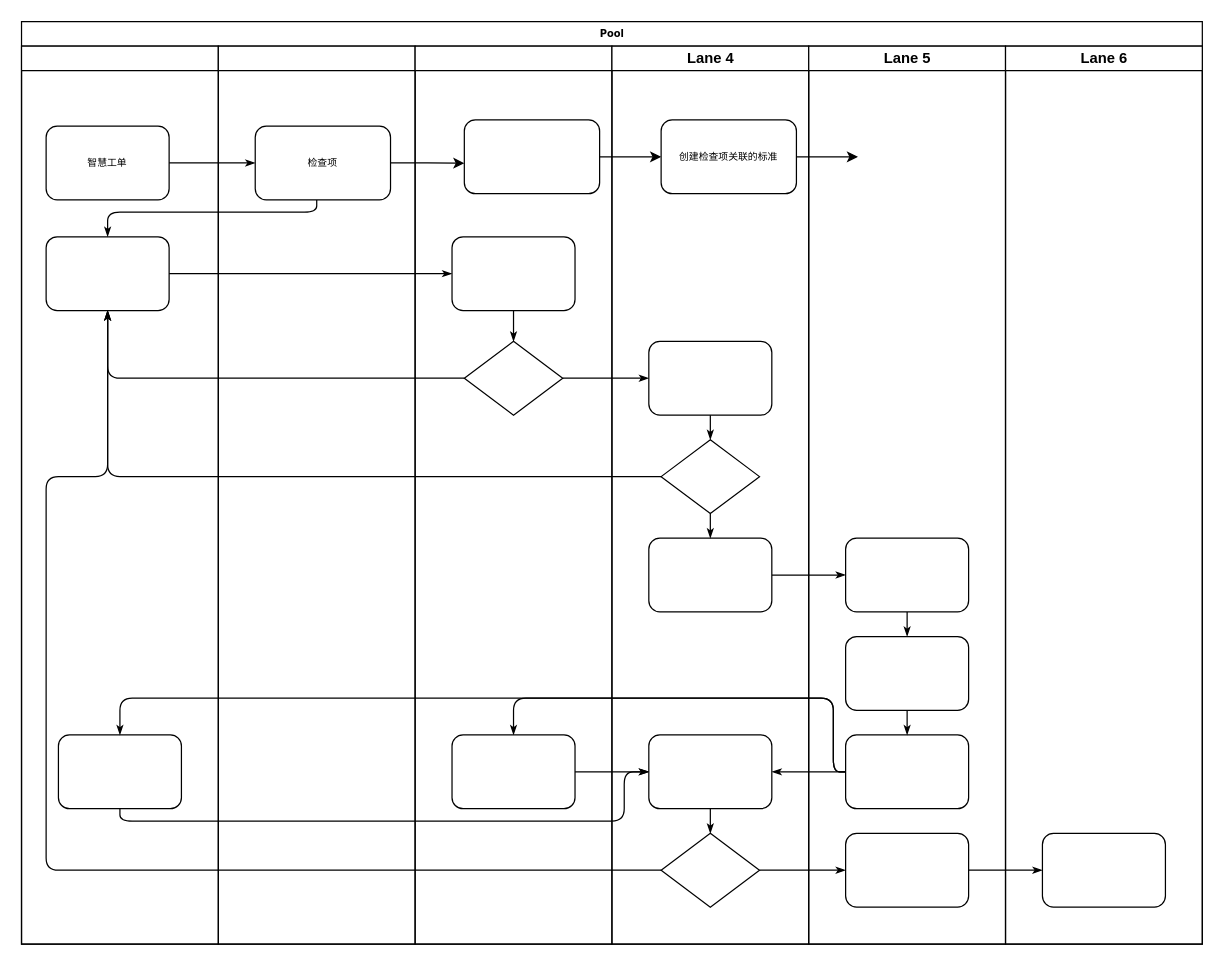
This 1224x966 diagram has some shape labels left out. The shapes that lost their labels are listed below. From the top down, each one's box as (x1, y1, x2, y2) in pixels, then its label:
(463, 119, 600, 194): 创建检查项
(20, 45, 218, 944): Lane 1
(217, 45, 415, 944): Lane 2
(414, 45, 612, 944): Lane 3
